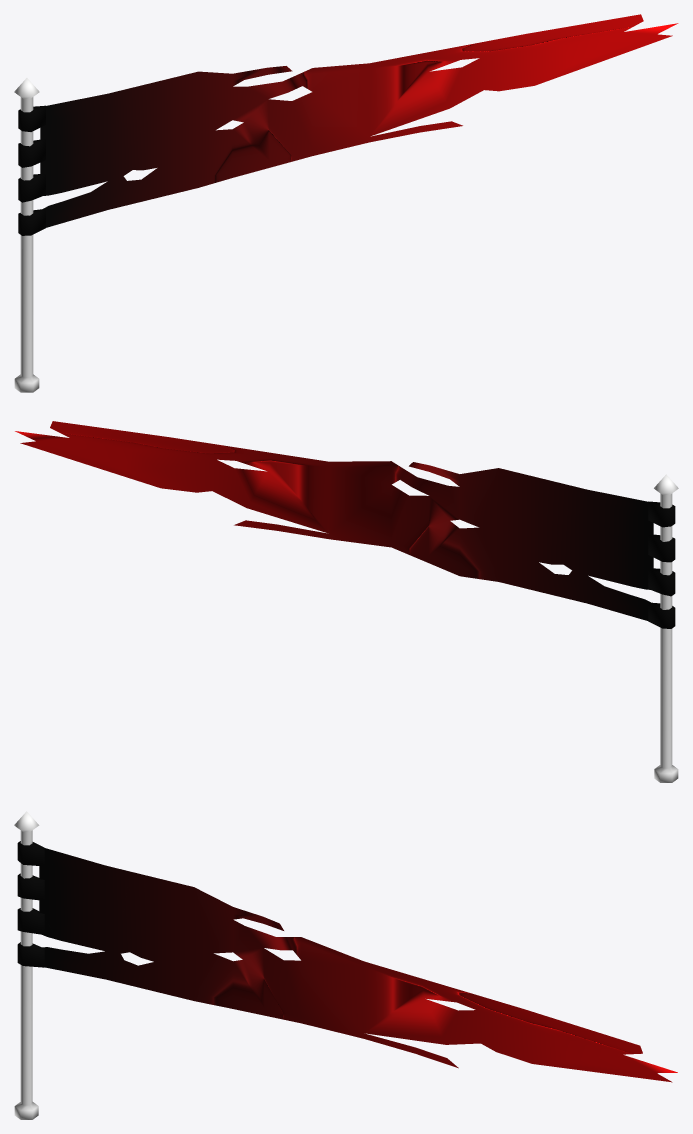
The model's file is SM_Prop_Flag_03.fbx.
The picture shows the model from 3 angles, top to bottom: view 1: azimuth 30°, elevation 25°; view 2: azimuth 150°, elevation 25°; view 3: azimuth 330°, elevation 25°; orthographic projection. The views are drawn at different scales.
Parts seen in each view (by area): view 1: SM_Prop_Flag_03; view 2: SM_Prop_Flag_03; view 3: SM_Prop_Flag_03.
Part boxes in pixels (left/top/right/bottom): SM_Prop_Flag_03: left=14, top=14, right=678, bottom=392; SM_Prop_Flag_03: left=15, top=421, right=678, bottom=782; SM_Prop_Flag_03: left=14, top=811, right=677, bottom=1119.
Size of the model in its own units: 1211 by 537 by 42.13.
